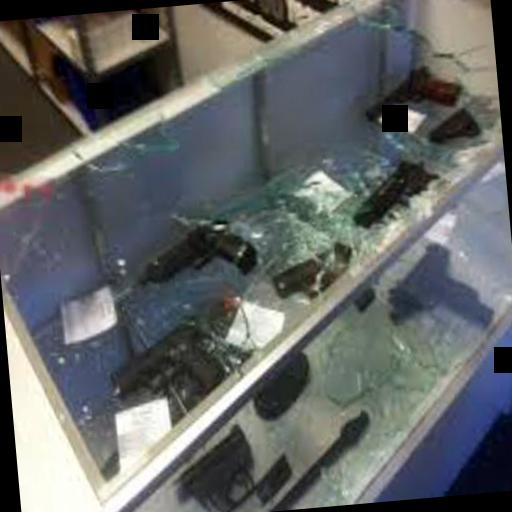Handgun: (340, 134, 462, 241), (94, 309, 225, 406), (131, 191, 260, 288), (266, 218, 374, 326), (353, 32, 464, 132)
